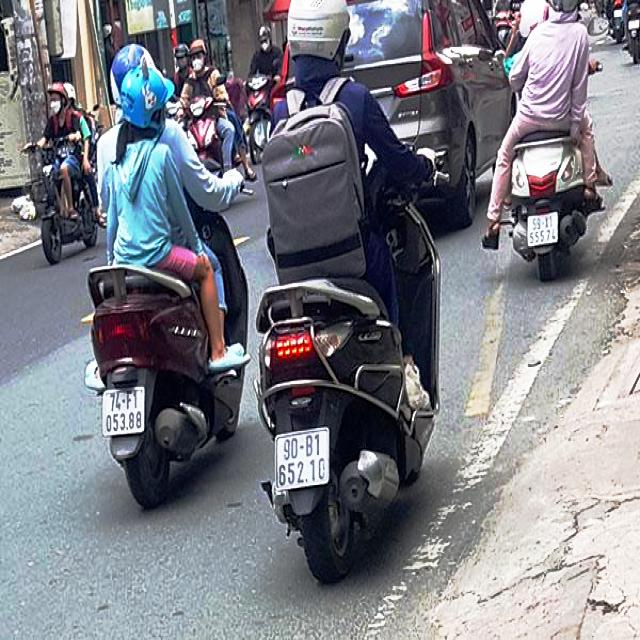license_plate: (276, 431, 331, 492), (103, 387, 147, 438)
